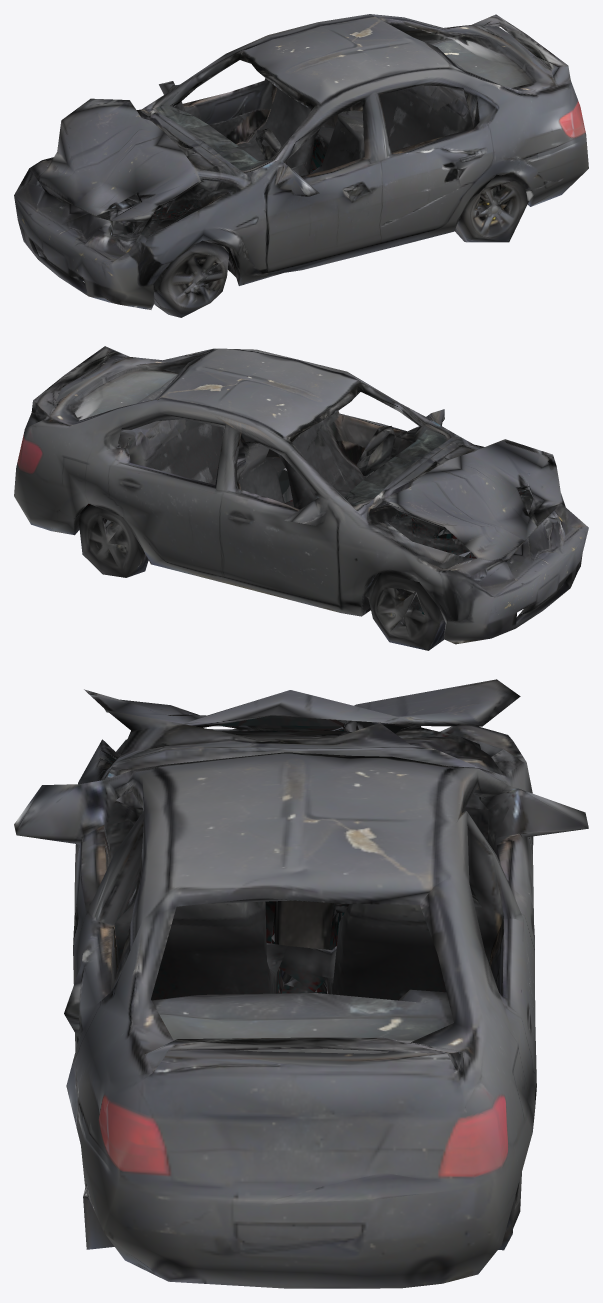
The model's file is A_black_broken_car_1121021200_texture.fbx.
3 renders of one model, top to bottom at view 1: azimuth 30°, elevation 25°; view 2: azimuth 150°, elevation 25°; view 3: azimuth 270°, elevation 25°, orthographic. The views are drawn at different scales.
Parts seen in each view (by area): view 1: Mesh1.0; view 2: Mesh1.0; view 3: Mesh1.0.
Part boxes in pixels (bbox=[...]): Mesh1.0: bbox=[14, 14, 588, 317]; Mesh1.0: bbox=[14, 346, 588, 650]; Mesh1.0: bbox=[14, 679, 588, 1288].
Bounding box in the file's own units: 200 × 69.43 × 104.
Materials: 1 (1 with a texture image).
